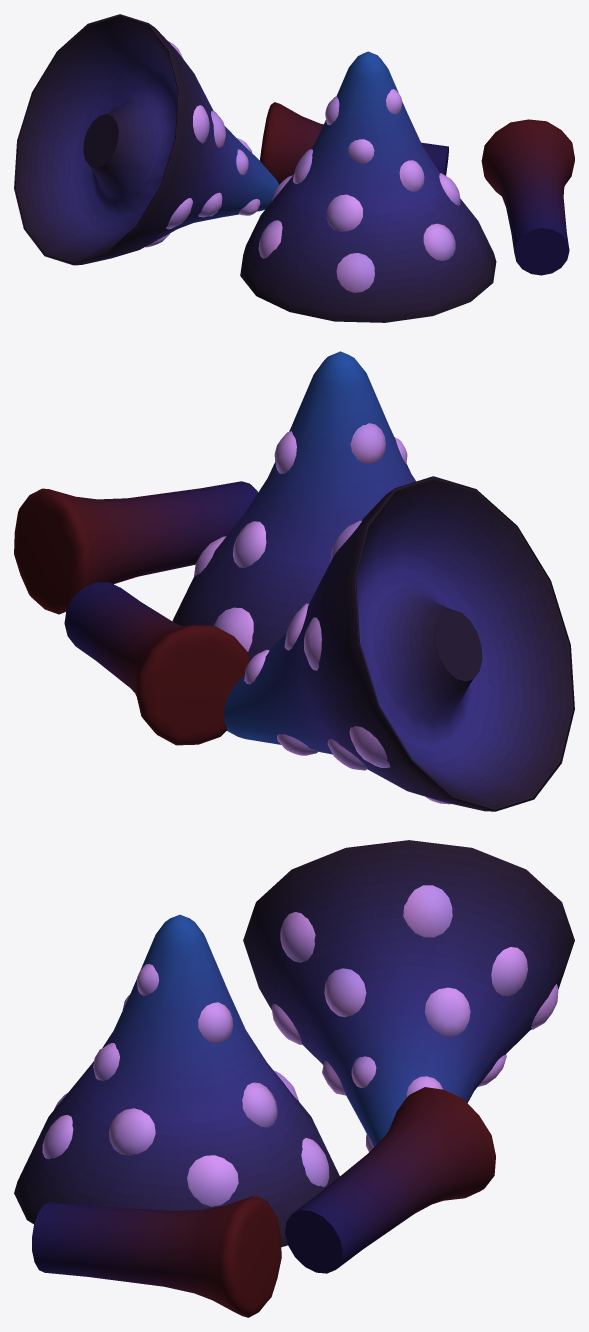
Rendered from Midnight_Mushroom_adjusted.fbx.
3 views of the same model, one above another, from view 1: azimuth 30°, elevation 25°; view 2: azimuth 150°, elevation 25°; view 3: azimuth 270°, elevation 25° (orthographic). The views are drawn at different scales.
Parts seen in each view (by area): view 1: Midnight_Mushroom_adjusted; view 2: Midnight_Mushroom_adjusted; view 3: Midnight_Mushroom_adjusted.
Part boxes in pixels (x1,y1,x2,y2): Midnight_Mushroom_adjusted: [14, 14, 574, 322]; Midnight_Mushroom_adjusted: [14, 351, 574, 811]; Midnight_Mushroom_adjusted: [14, 840, 574, 1317].
Size of the model in its own units: 63.68 by 29 by 52.5.
